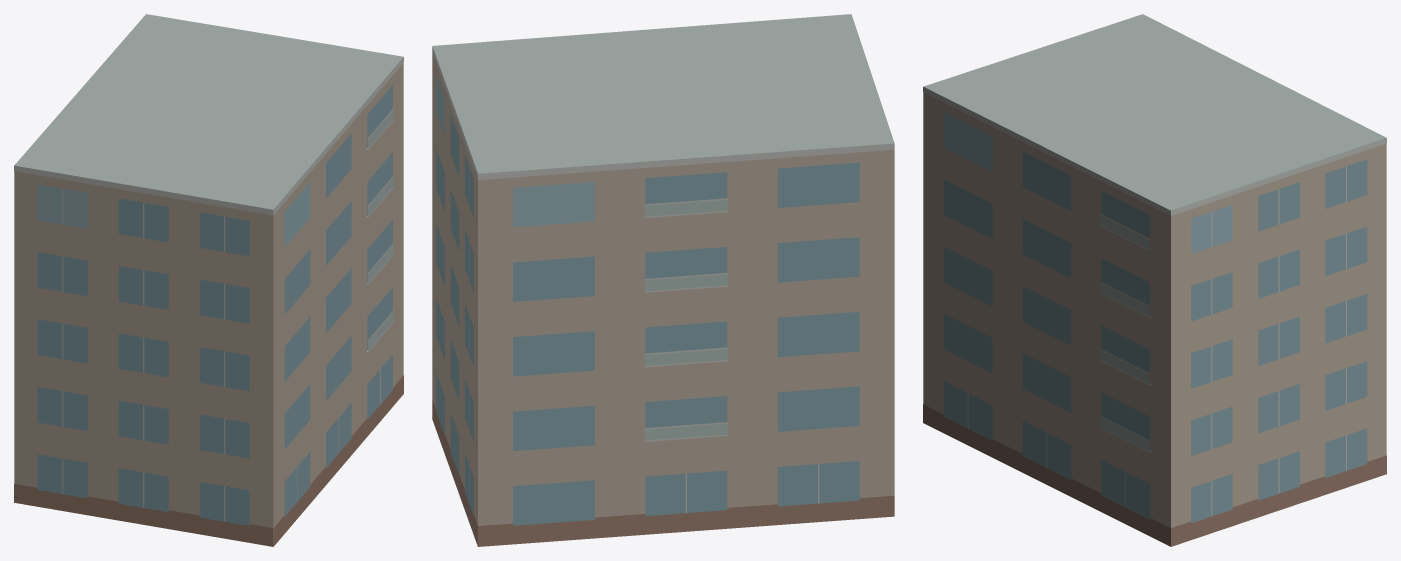
The model's file is survey-upis-32741718.glb.
3 renders of one model, left to right at view 1: azimuth 30°, elevation 25°; view 2: azimuth 150°, elevation 25°; view 3: azimuth 270°, elevation 25°, orthographic. The views are drawn at different scales.
Parts seen in each view (by area): view 1: survey-upis-32741718.tmp; view 2: survey-upis-32741718.tmp; view 3: survey-upis-32741718.tmp.
Boxes of the visible parts, left/top/right/bottom form: survey-upis-32741718.tmp: left=14, top=14, right=403, bottom=546; survey-upis-32741718.tmp: left=432, top=14, right=894, bottom=546; survey-upis-32741718.tmp: left=923, top=14, right=1386, bottom=546.
Size of the model in its own units: 18.24 by 14.55 by 18.19.
